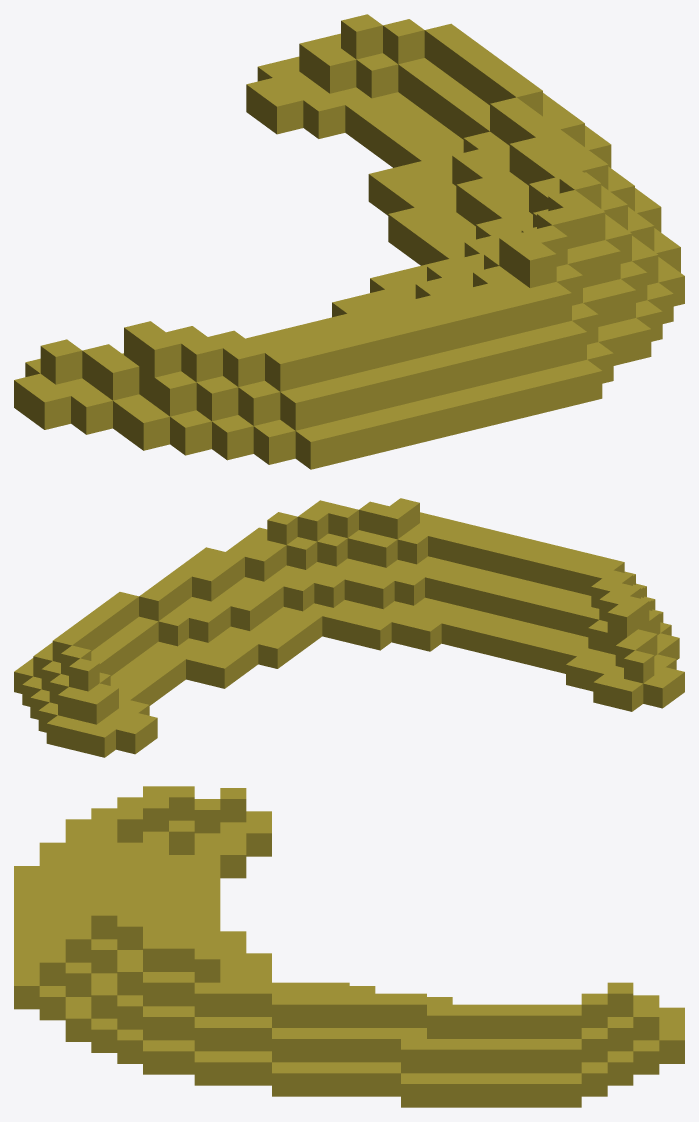
The model's file is dune_3.obj.
3 renders of one model, top to bottom at view 1: azimuth 30°, elevation 25°; view 2: azimuth 150°, elevation 25°; view 3: azimuth 270°, elevation 25°, orthographic. The views are drawn at different scales.
Bounding box in the file's own units: 2.6 × 0.4 × 2.6.
Materials: 1 (1 with a texture image).
